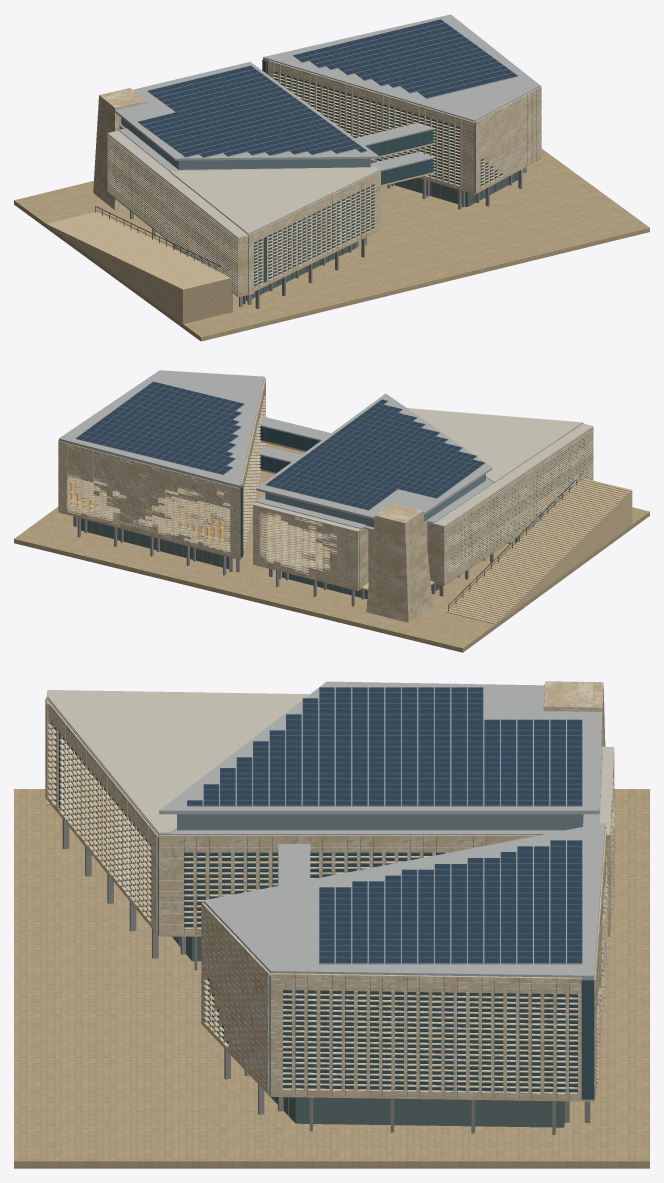
File: parliament-CiHdUQiD.glb
3 renders of one model, top to bottom at view 1: azimuth 30°, elevation 25°; view 2: azimuth 150°, elevation 25°; view 3: azimuth 270°, elevation 25°, orthographic. The views are drawn at different scales.
Visible parts, largest first — view 1: Paved plinth, PV • 0, Ashlar courses, Roof deck.001, City steps, Terrace finish • long edge, Glazing behind stone, Stair • staggered stone openings and deep returns, Soffit, Roof deck, Battered corner pier, Clerestory (+2 smaller); view 2: PV • 0, Ashlar courses, Paved plinth, City steps, Roof deck.001, Battered corner pier, Stair • staggered stone openings and deep returns, Terrace finish • long edge, Soffit, Roof deck, Recessed ground floor, Glazing behind stone (+5 smaller); view 3: Paved plinth, PV • 0, Ashlar courses, Glazing behind stone, Roof deck.001, Terrace finish • long edge, Roof deck, Soffit, Recessed ground floor, Clerestory, Outer arcade • rectangular steel column, Battered corner pier.
Part boxes in pixels (box(x1,y1,x2,y2)): Paved plinth: box(14, 149, 649, 341); PV • 0: box(138, 19, 517, 157); Ashlar courses: box(248, 59, 541, 293); Roof deck.001: box(142, 14, 540, 171); City steps: box(46, 211, 232, 324); Terrace finish • long edge: box(108, 130, 379, 237); Glazing behind stone: box(248, 59, 502, 293); Stair • staggered stone openings and deep returns: box(107, 134, 237, 295); Soffit: box(248, 65, 541, 291); Roof deck: box(115, 62, 380, 234); Battered corner pier: box(93, 88, 254, 297); Clerestory: box(121, 118, 370, 169); PV • 0: box(75, 381, 485, 510); Ashlar courses: box(58, 378, 357, 589); Paved plinth: box(14, 443, 649, 652); City steps: box(446, 478, 632, 624); Roof deck.001: box(59, 370, 483, 506); Battered corner pier: box(253, 428, 593, 622); Stair • staggered stone openings and deep returns: box(444, 427, 593, 583); Terrace finish • long edge: box(253, 408, 592, 531); Soffit: box(58, 388, 434, 590); Roof deck: box(256, 393, 583, 530); Recessed ground floor: box(81, 518, 439, 599); Glazing behind stone: box(58, 426, 320, 558); Paved plinth: box(14, 789, 649, 1168); PV • 0: box(187, 687, 582, 964); Ashlar courses: box(45, 698, 615, 1099); Glazing behind stone: box(50, 722, 606, 1099); Roof deck.001: box(203, 687, 605, 979); Terrace finish • long edge: box(47, 690, 614, 834); Roof deck: box(46, 681, 602, 836); Soffit: box(45, 704, 615, 1101); Recessed ground floor: box(172, 936, 564, 1127); Clerestory: box(177, 814, 583, 830); Outer arcade • rectangular steel column: box(62, 819, 590, 1134); Battered corner pier: box(46, 681, 610, 936).
Bounding box in the file's own units: 79 × 17.16 × 57.
21 materials, 11 textured.
